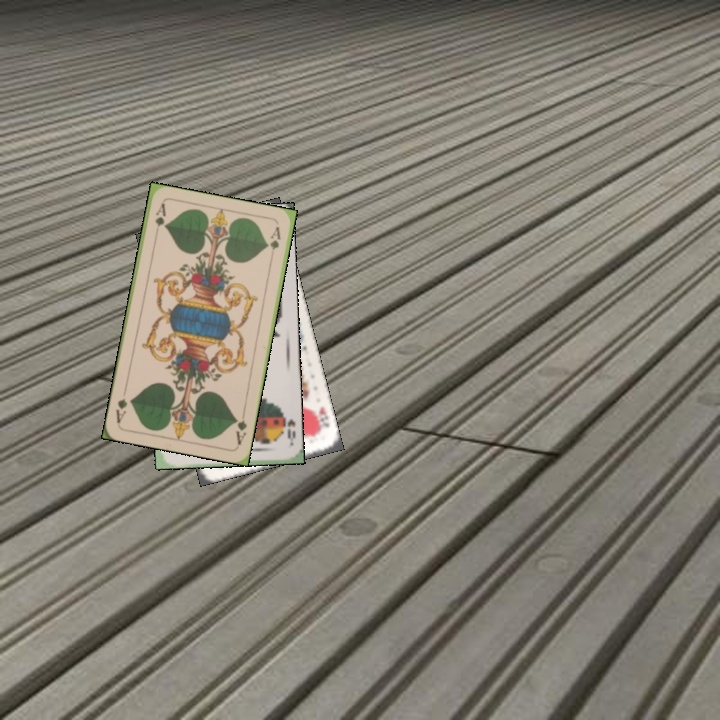GA: (231, 407, 249, 447), (150, 200, 168, 240)
HK: (314, 403, 333, 436)
SO: (277, 407, 298, 447)
